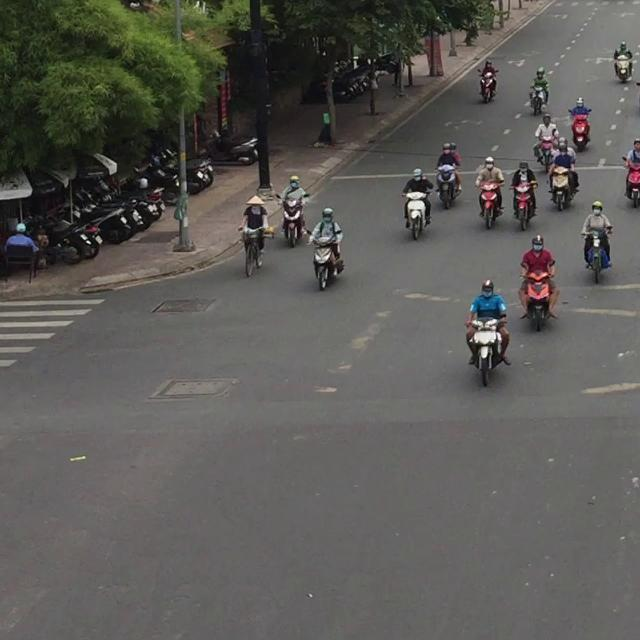Motorcycle: (465, 314, 510, 387), (306, 229, 344, 290), (519, 271, 555, 332), (273, 192, 310, 248), (580, 228, 612, 283), (401, 188, 433, 240), (508, 179, 538, 231), (547, 165, 577, 213), (475, 180, 504, 229), (434, 163, 462, 209), (568, 108, 591, 151), (476, 68, 497, 103), (613, 52, 633, 83), (528, 84, 548, 115)
